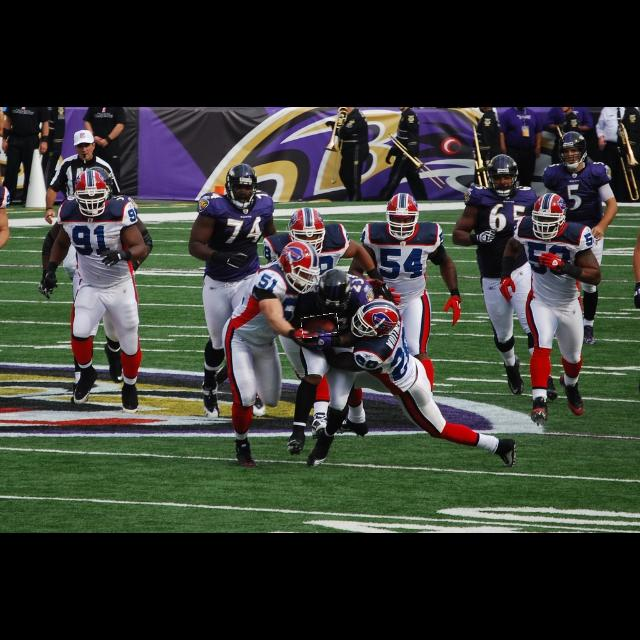Football: (302, 315, 338, 337)
